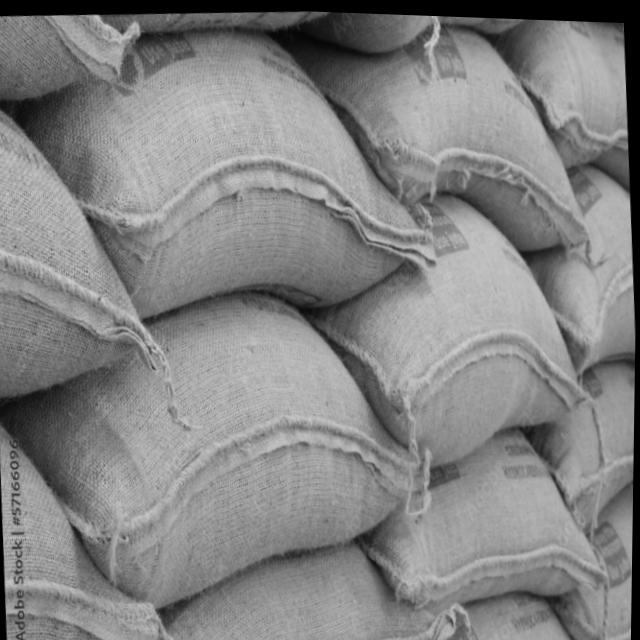sack: (0, 275, 439, 617), (26, 12, 442, 332), (303, 176, 591, 464), (308, 9, 592, 259), (352, 416, 612, 614), (0, 96, 166, 403), (144, 526, 473, 640), (524, 155, 638, 381)
